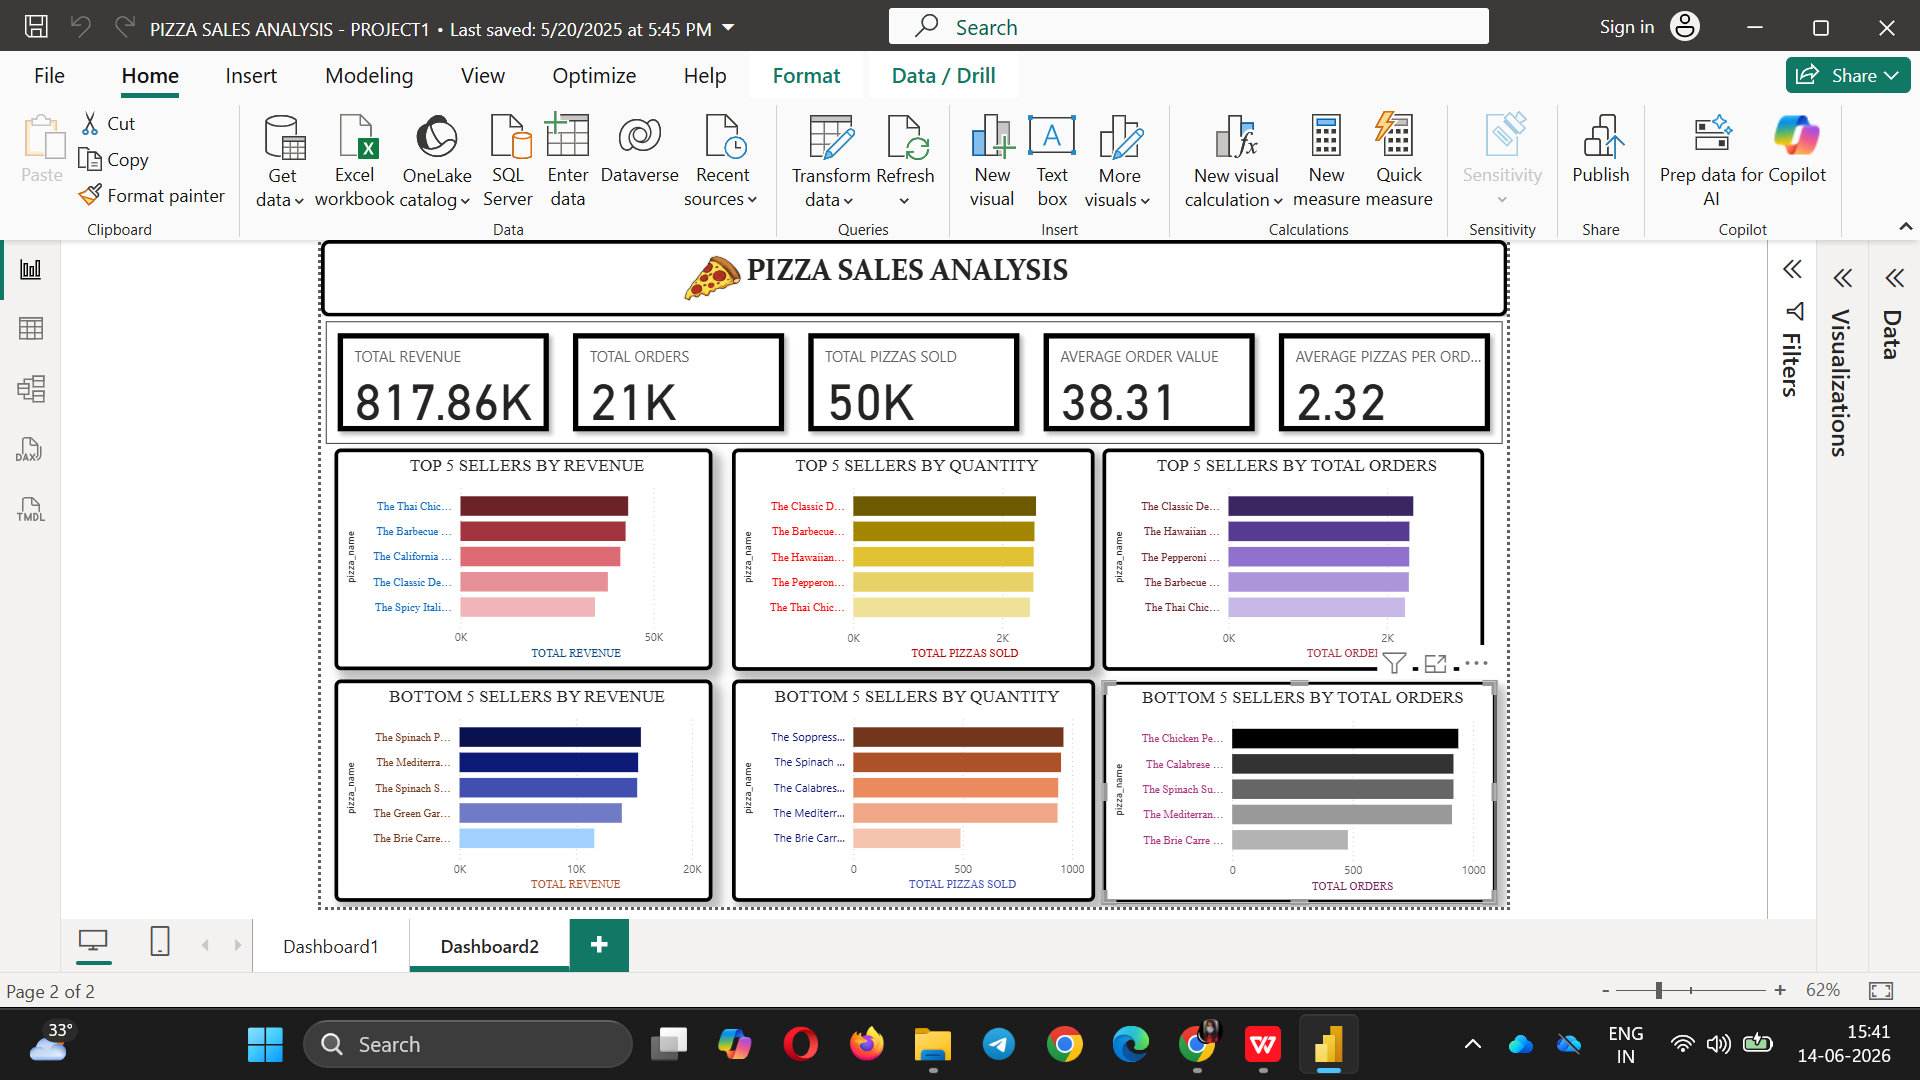

Layout of this report page (visuals, bound fields, positions):
{"tool":"powerbi","page":{"name":"Dashboard2","canvas":[1280,720],"ordinal":1},"visuals":[{"type":"textbox","box":[0,0,1280.8,82.6],"z":0},{"type":"image","box":[361.1,0,123.1,82.6],"z":1000},{"type":"cardVisual","fields":{"Data":["pizza_sales(1).TOTAL REVENUE","pizza_sales(1).TOTAL ORDERS","pizza_sales(1).TOTAL PIZZAS SOLD","pizza_sales(1).AVERAGE ORDER VALUE","pizza_sales(1).AVERAGE PIZZAS PER ORDER"]},"box":[0,82.6,1280.8,142.5],"z":2000},{"type":"clusteredBarChart","title":"TOP 5 SELLERS BY REVENUE","fields":{"Y":["pizza_sales(1).TOTAL REVENUE"],"Category":["pizza_sales(1).pizza_name"]},"box":[14.6,225.1,408,239.6],"z":3000},{"type":"clusteredBarChart","title":"TOP 5 SELLERS BY QUANTITY","fields":{"Y":["pizza_sales(1).TOTAL PIZZAS SOLD"],"Category":["pizza_sales(1).pizza_name"]},"box":[444.1,224.9,391.2,240],"z":4000},{"type":"clusteredBarChart","title":"TOP 5 SELLERS BY TOTAL ORDERS","fields":{"Y":["pizza_sales(1).TOTAL ORDERS"],"Category":["pizza_sales(1).pizza_name"]},"box":[842.8,224.9,412,240],"z":5000},{"type":"clusteredBarChart","title":"BOTTOM 5 SELLERS BY REVENUE","fields":{"Y":["pizza_sales(1).TOTAL REVENUE"],"Category":["pizza_sales(1).pizza_name"]},"box":[15,475,408,240],"z":6000},{"type":"clusteredBarChart","title":"BOTTOM 5 SELLERS BY QUANTITY","fields":{"Y":["pizza_sales(1).TOTAL PIZZAS SOLD"],"Category":["pizza_sales(1).pizza_name"]},"box":[444,475,392,240],"z":7000},{"type":"clusteredBarChart","title":"BOTTOM 5 SELLERS BY TOTAL ORDERS","fields":{"Y":["pizza_sales(1).TOTAL ORDERS"],"Category":["pizza_sales(1).pizza_name"]},"box":[842.8,476.2,425.2,240],"z":8000}]}

Visuals, with their boxes on the page's 1280x720 design canvas (x1, y1, x2, y2). These are canvas units, not pixel positions in the 1920x1080 screenshot, which may show the page scaled, cropped or inside an application window:
textbox: select_region(0, 0, 1281, 83)
image: select_region(361, 0, 484, 83)
cardVisual - pizza_sales(1).TOTAL REVENUE x pizza_sales(1).TOTAL ORDERS: select_region(0, 83, 1281, 225)
"TOP 5 SELLERS BY REVENUE" clusteredBarChart: select_region(15, 225, 423, 465)
"TOP 5 SELLERS BY QUANTITY" clusteredBarChart: select_region(444, 225, 835, 465)
"TOP 5 SELLERS BY TOTAL ORDERS" clusteredBarChart: select_region(843, 225, 1255, 465)
"BOTTOM 5 SELLERS BY REVENUE" clusteredBarChart: select_region(15, 475, 423, 715)
"BOTTOM 5 SELLERS BY QUANTITY" clusteredBarChart: select_region(444, 475, 836, 715)
"BOTTOM 5 SELLERS BY TOTAL ORDERS" clusteredBarChart: select_region(843, 476, 1268, 716)
